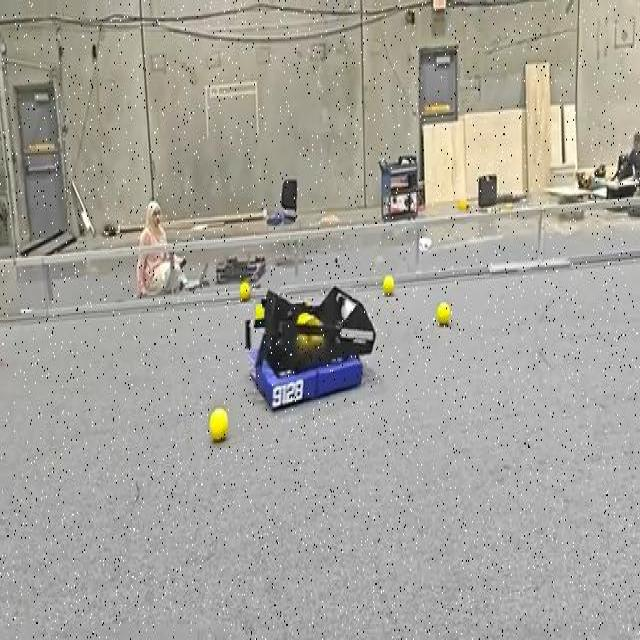Fuel: (209, 407, 228, 443), (296, 334, 323, 350), (436, 302, 450, 326), (383, 275, 394, 296), (382, 276, 394, 295), (239, 281, 250, 300), (240, 282, 250, 302)
